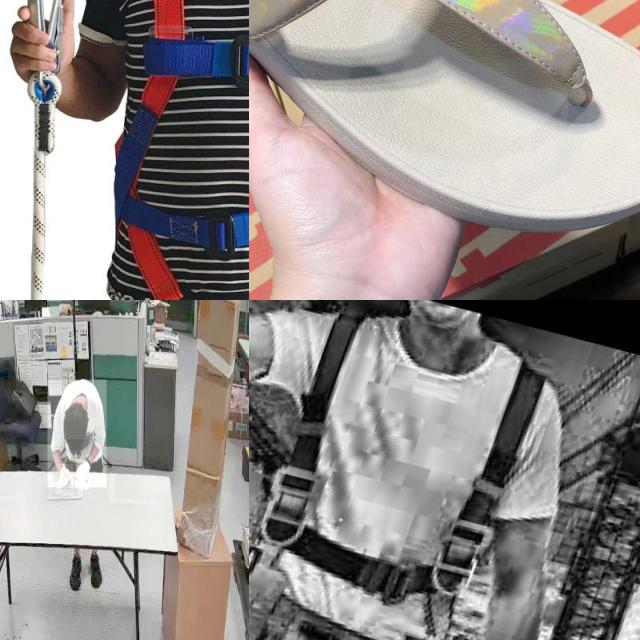Harness: (258, 315, 549, 599), (112, 0, 249, 300)
Sandals: (249, 0, 640, 233)
hand_glove: (56, 464, 74, 497), (76, 458, 90, 491)
head_nohelmet: (60, 401, 88, 440)
person: (47, 380, 107, 488)
shoes: (86, 549, 104, 591), (68, 552, 84, 594)
